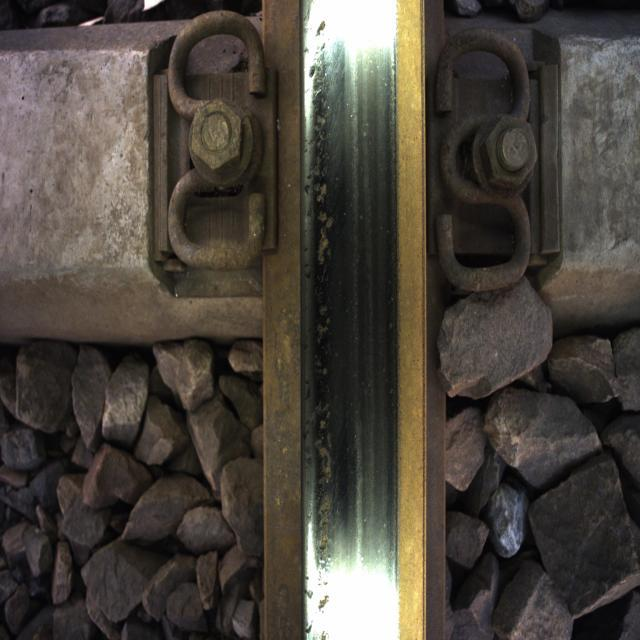crack: (301, 8, 371, 610)
